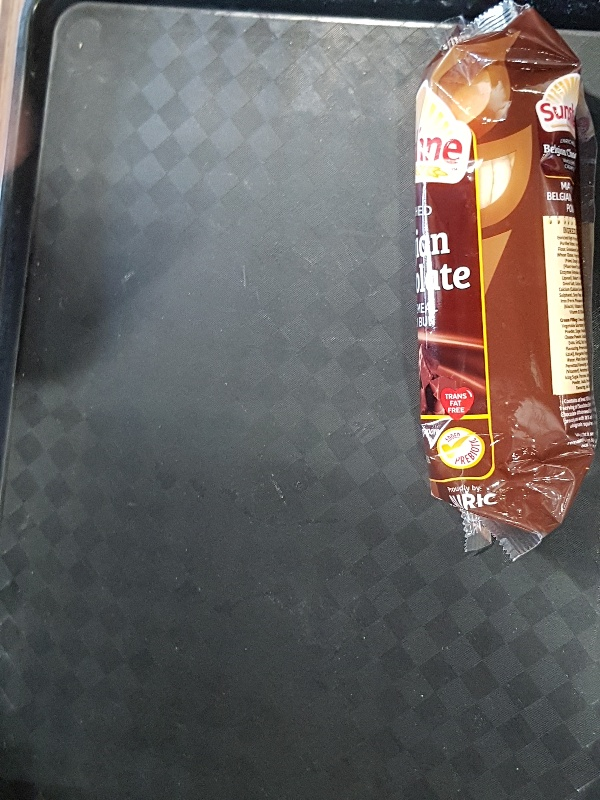Sunshine Belgium Chocolate Wholemeal Cream Bun: (410, 1, 600, 562)
